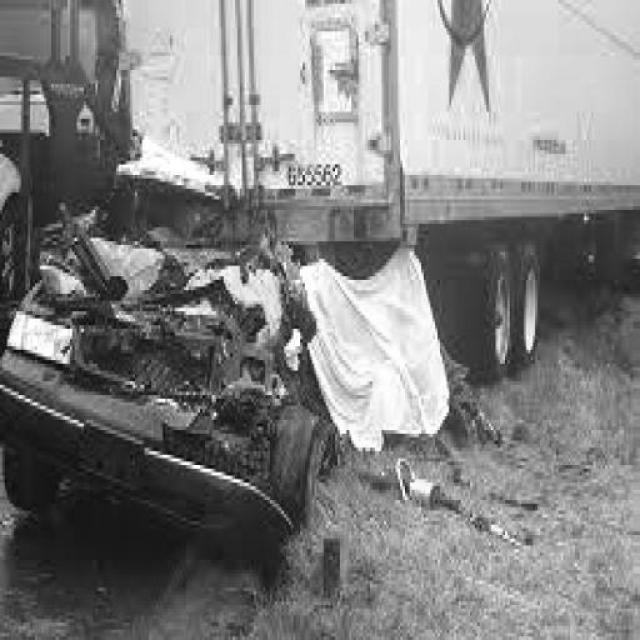car damage: (25, 239, 316, 527)
